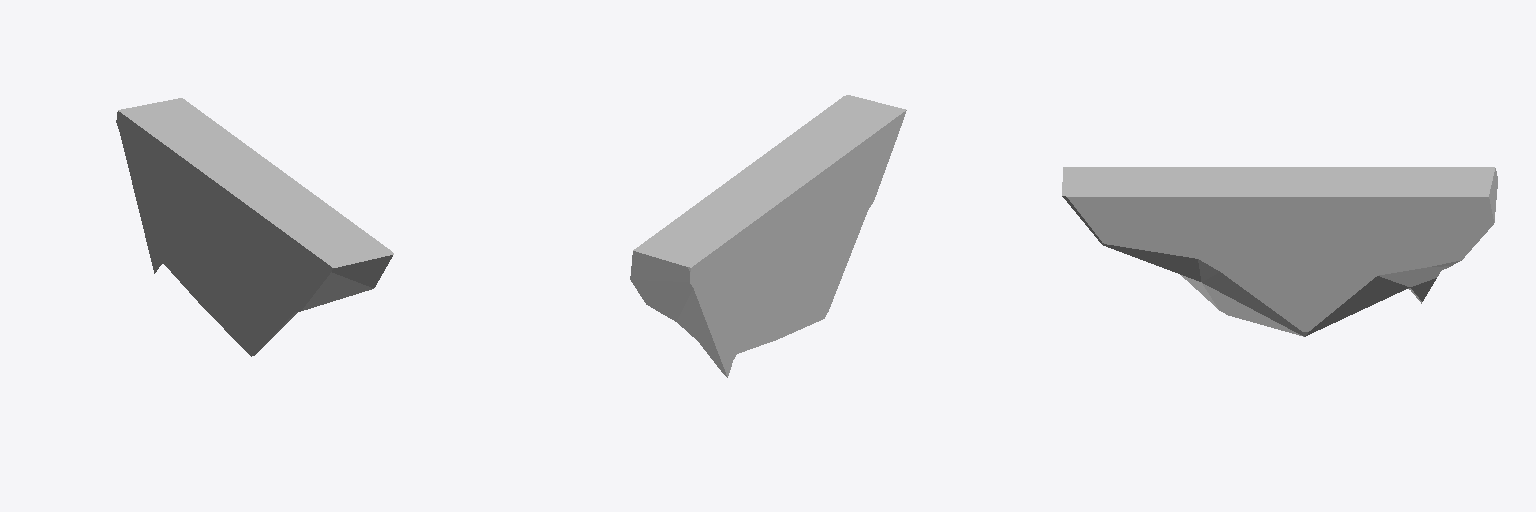
Rendered from broken_wall_02.obj.
3 renders of one model, left to right at view 1: azimuth 30°, elevation 25°; view 2: azimuth 150°, elevation 25°; view 3: azimuth 270°, elevation 25°, orthographic.
Visible parts, largest first — view 1: Cube.007_Cube.013; view 2: Cube.007_Cube.013; view 3: Cube.007_Cube.013.
Part boxes in pixels (left/top/right/bottom): Cube.007_Cube.013: left=116, top=98, right=393, bottom=356; Cube.007_Cube.013: left=630, top=95, right=906, bottom=377; Cube.007_Cube.013: left=1062, top=167, right=1497, bottom=336.
Bounding box in the file's own units: 0.5 × 1.16 × 3.09.